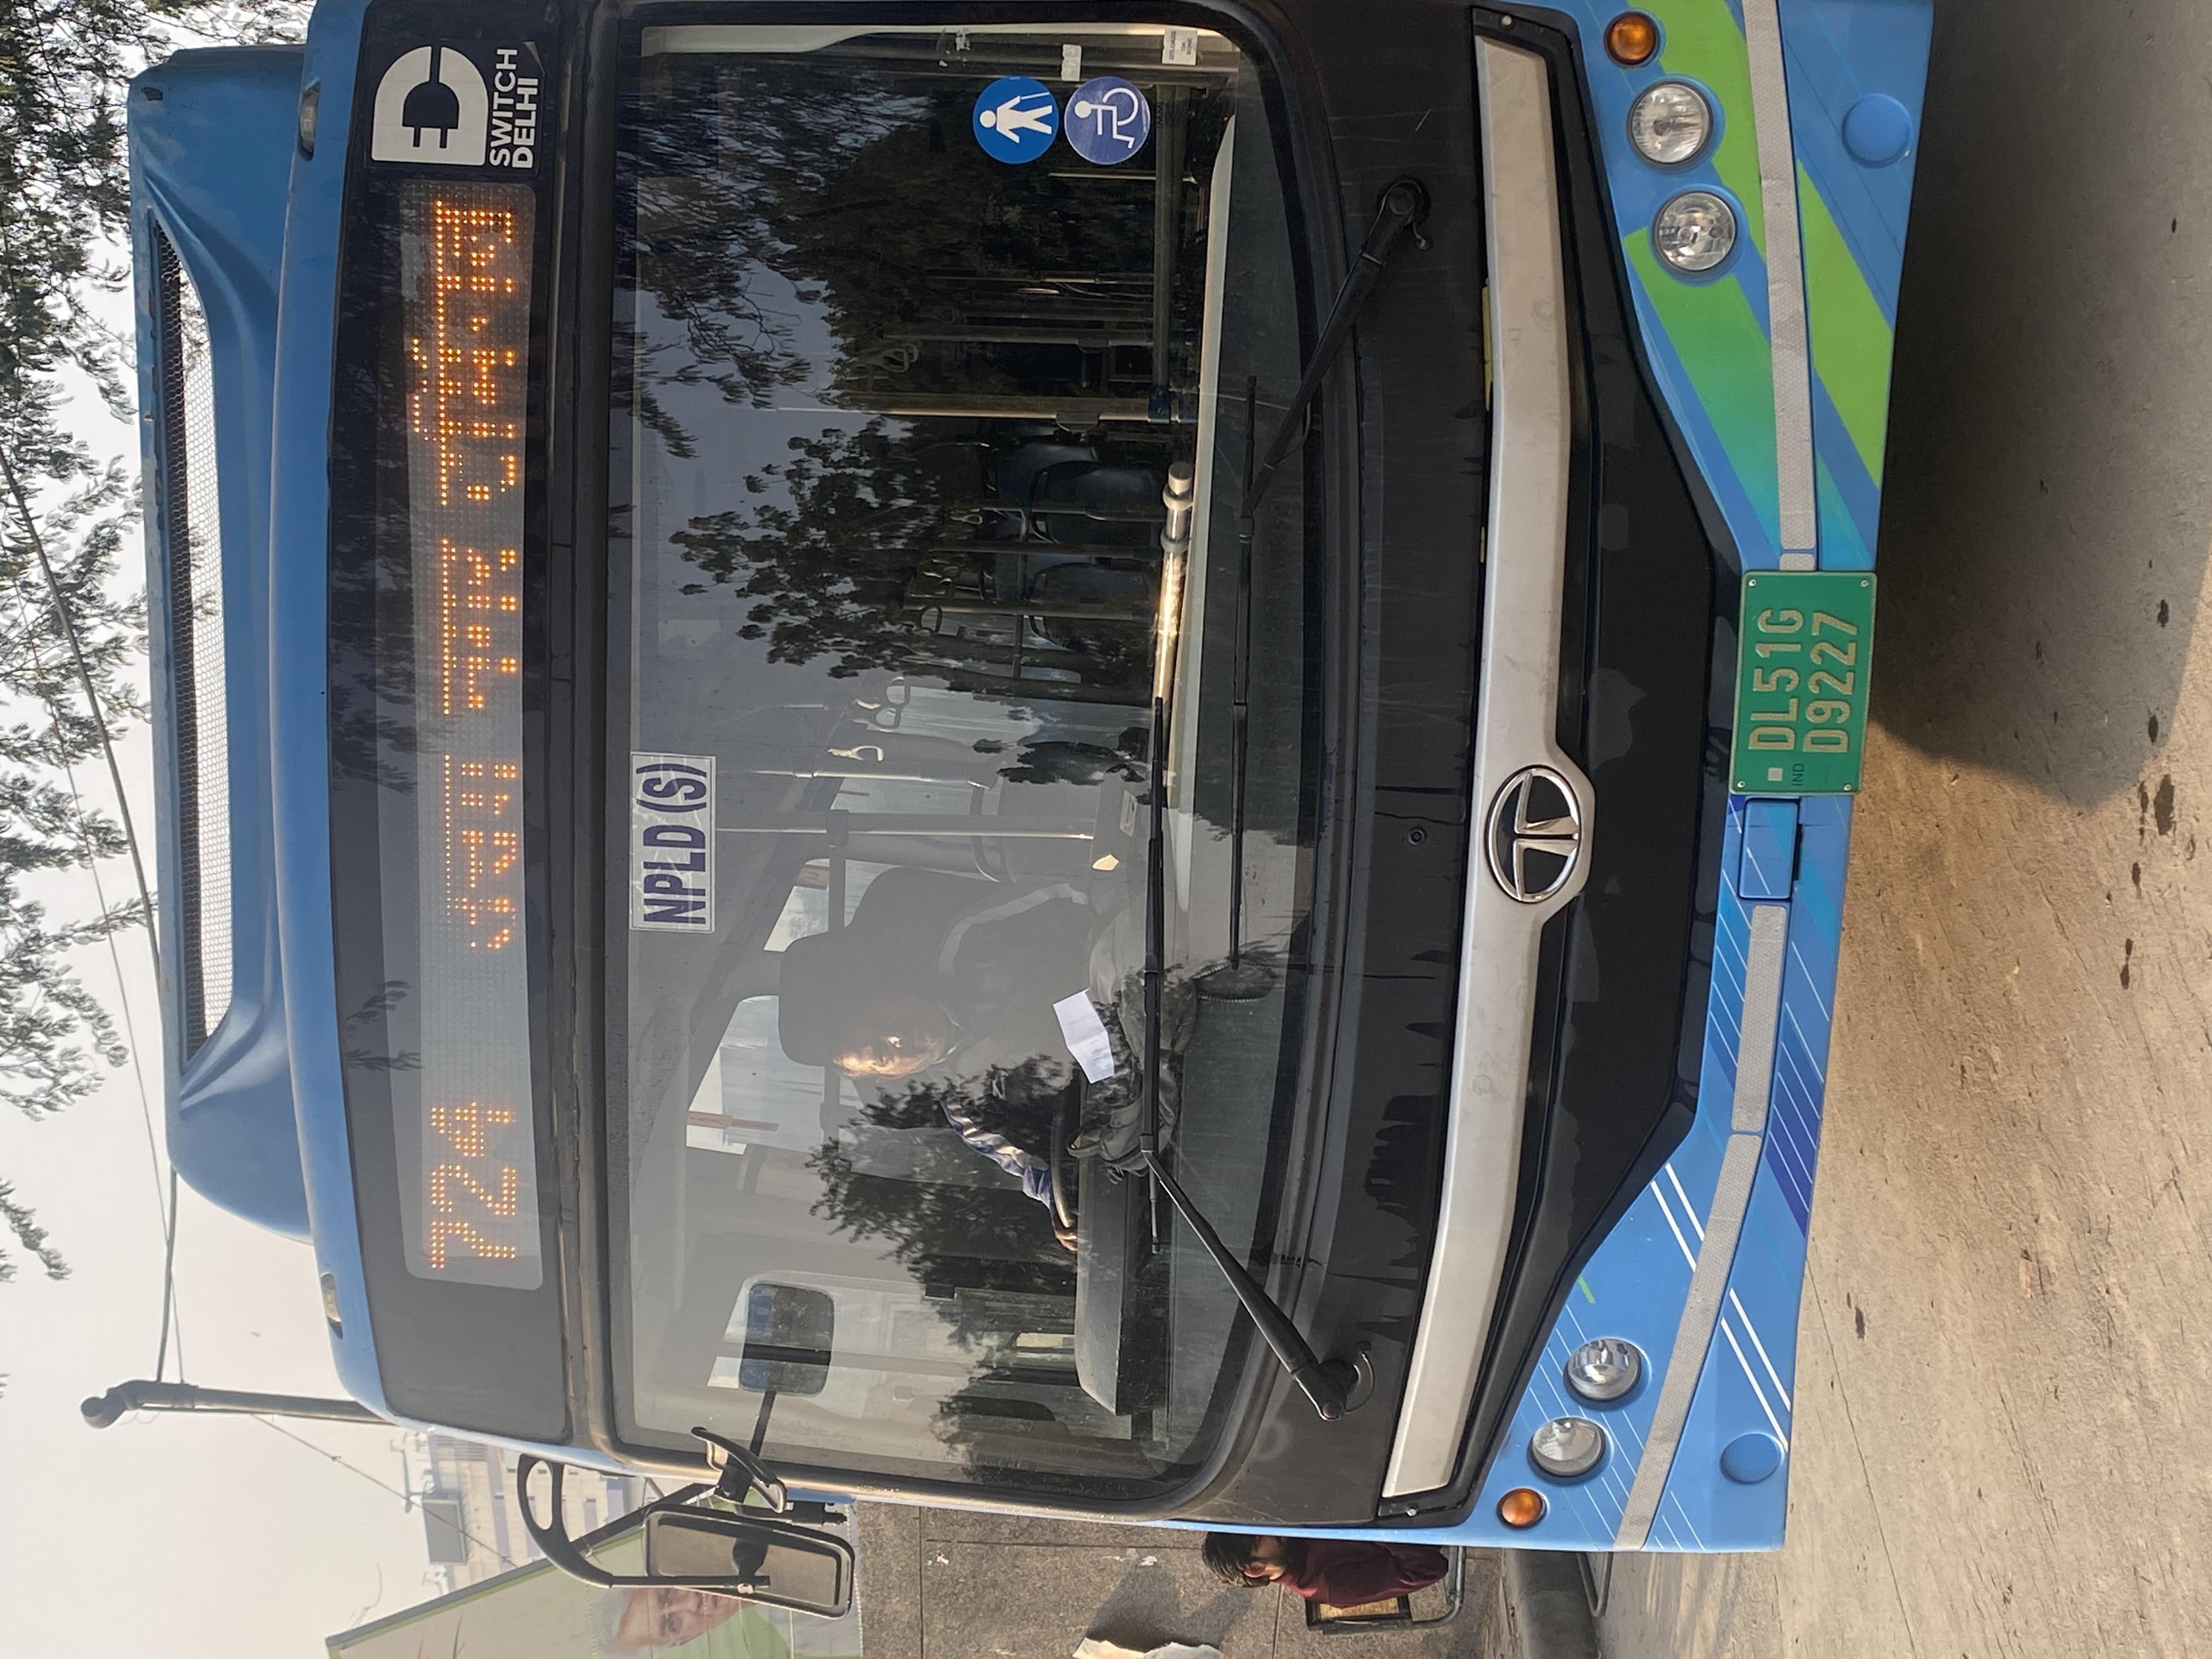Bus: (93, 33, 1898, 1569)
Display Board: (307, 0, 653, 1503)
License Plate: (1712, 560, 1904, 850)
